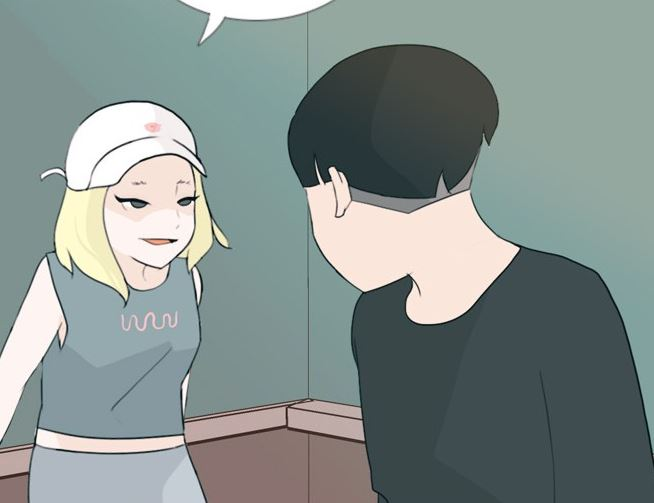hat: (61, 97, 212, 190)
